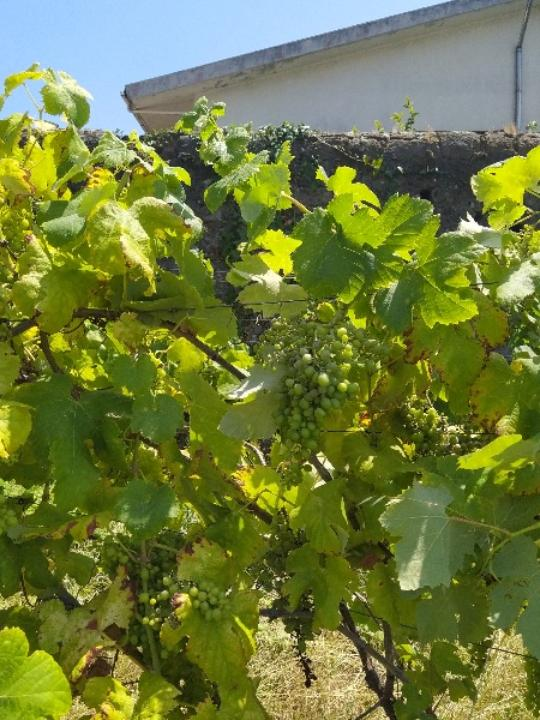grape: (271, 326, 360, 492), (0, 442, 19, 590)
